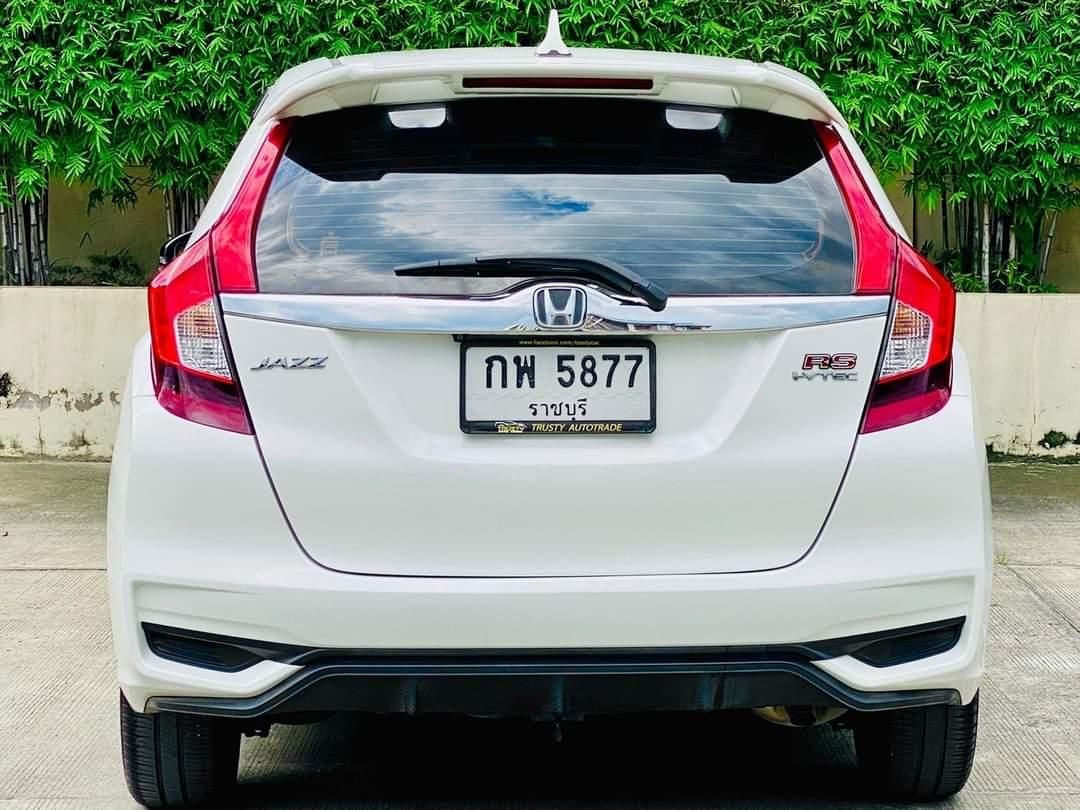license-plate: (457, 332, 658, 434)
